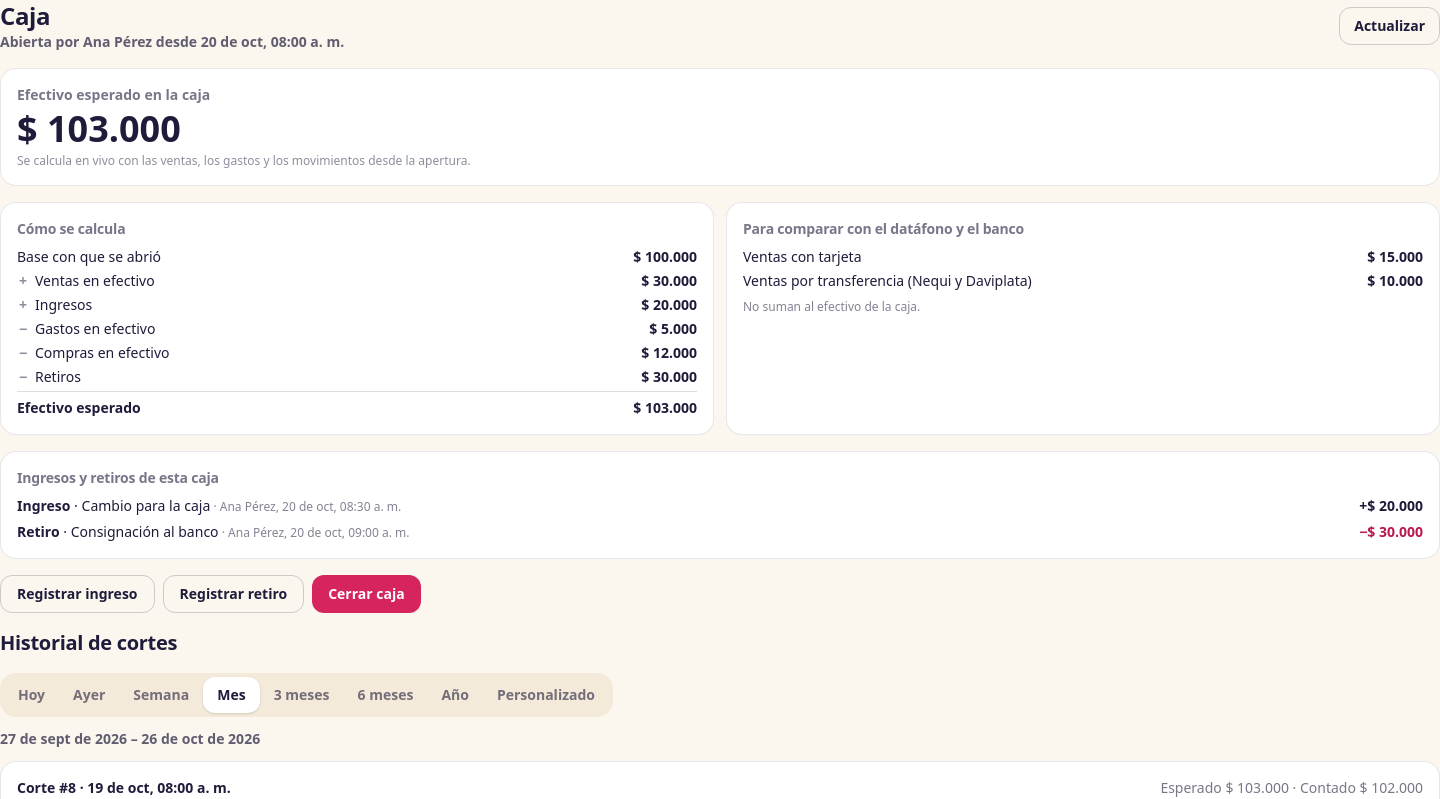
Scenario: Caja — abierta › no deja cerrar si este equipo tiene ventas guardadas sin enviar
Expected: the text "Abierta por Ana Pérez desde 20 de oct, 08:00 a. m." is shown, [0,32,344,52]
Click the button "Cerrar caja": point(366, 594) [312,575,421,613]
(page scrolled)
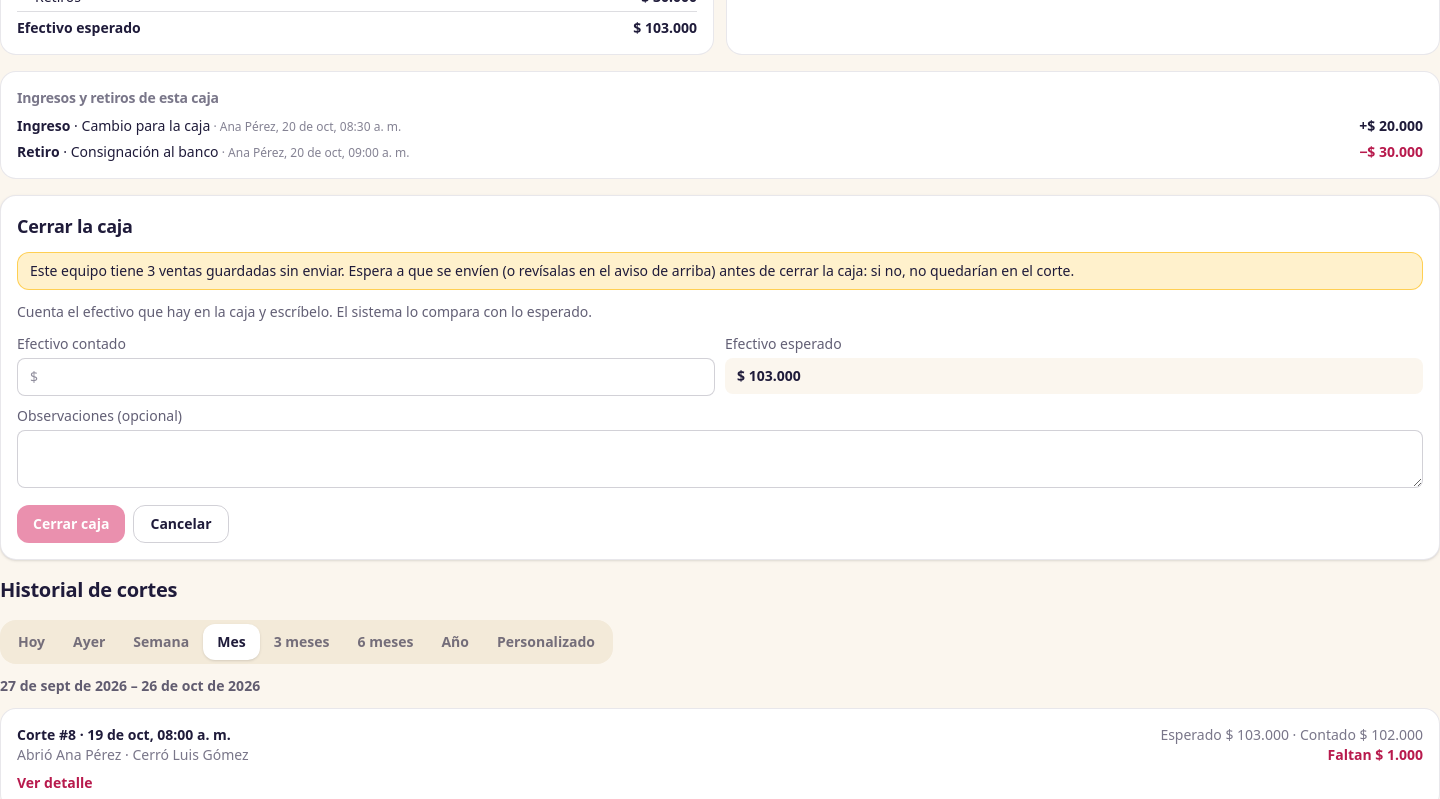
Expected: the message shows "3 ventas guardadas sin enviar", [17,252,1423,290]
Expected: the button "Cerrar caja" is disabled, [17,505,126,543]
